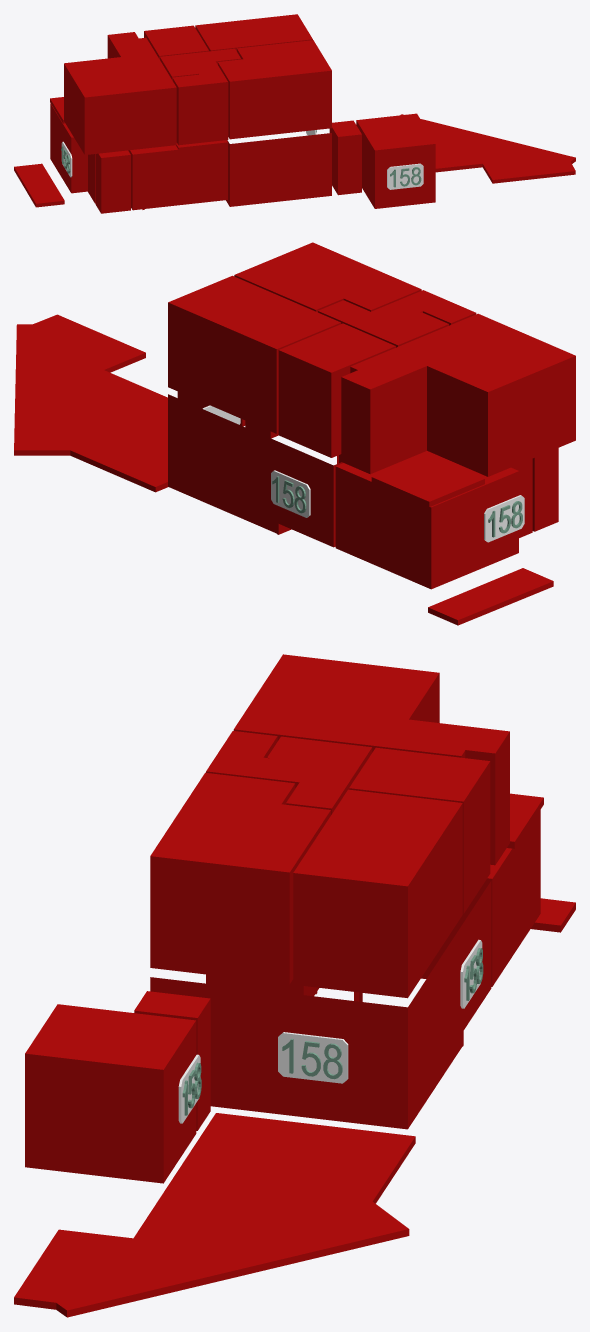
3 renders of one model, top to bottom at view 1: azimuth 30°, elevation 25°; view 2: azimuth 150°, elevation 25°; view 3: azimuth 270°, elevation 25°, orthographic. The views are drawn at different scales.
Visible parts, largest first — view 1: g_11, g_6, g_1, g_2, g_5, g_14, g_10, g_7, g_3, g_4, g_0, g_9 (+3 smaller); view 2: g_11, g_14, g_7, g_0, g_1, g_9, g_6, g_13, g_12, g_8, g_3, g_10 (+3 smaller); view 3: g_14, g_1, g_7, g_6, g_5, g_11, g_9, g_0, g_8, g_4, g_30, g_10 (+3 smaller).
Part boxes in pixels (x1,y1,x2,y2): g_11: (64,32,176,154); g_6: (218,40,331,139); g_1: (226,133,331,206); g_2: (88,140,227,210); g_5: (356,113,435,208); g_14: (400,114,575,183); g_10: (172,70,228,145); g_7: (195,14,312,51); g_3: (95,150,130,213); g_4: (329,120,361,195); g_0: (50,103,87,193); g_9: (144,25,208,59); g_11: (341,313,575,476); g_14: (14,314,167,492); g_7: (168,275,341,433); g_0: (335,451,518,589); g_1: (168,394,343,547); g_9: (278,323,395,457); g_6: (234,242,421,312); g_13: (371,454,484,506); g_12: (428,568,553,625); g_8: (318,300,448,347); g_3: (532,448,558,531); g_10: (395,290,476,325); g_14: (14,1113,415,1317); g_1: (150,881,491,1129); g_7: (293,789,462,998); g_6: (150,772,330,984); g_5: (25,1004,196,1183); g_11: (233,654,509,865); g_9: (349,747,490,913); g_0: (421,810,540,986); g_8: (257,736,372,814); g_4: (134,991,210,1130); g_30: (278,1032,348,1083); g_10: (206,731,277,778).
Bounding box in the file's own units: 19.6 × 5.35 × 10.87.
